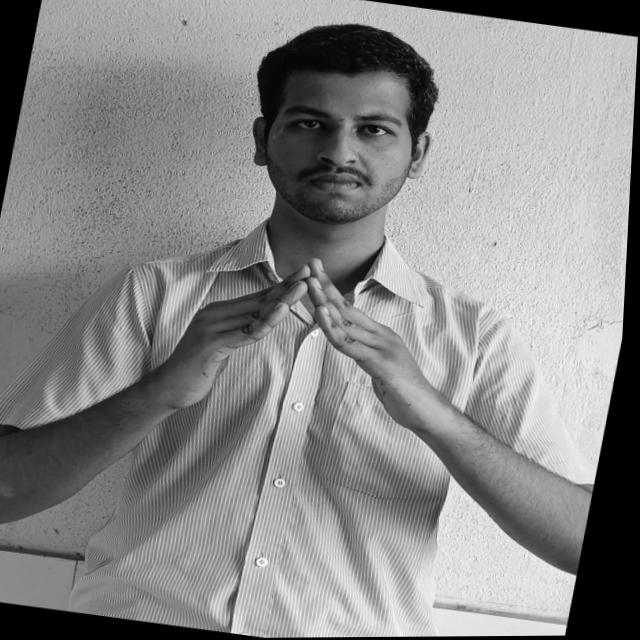Home: (152, 240, 461, 439)
